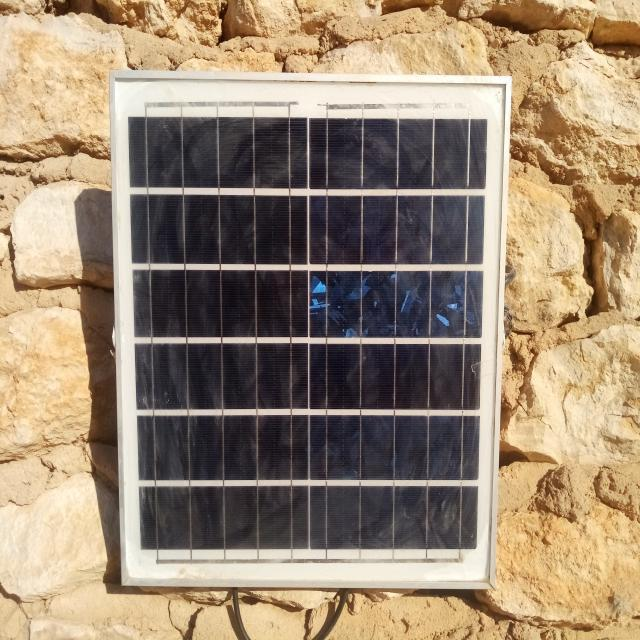faulty: (111, 76, 511, 589)
